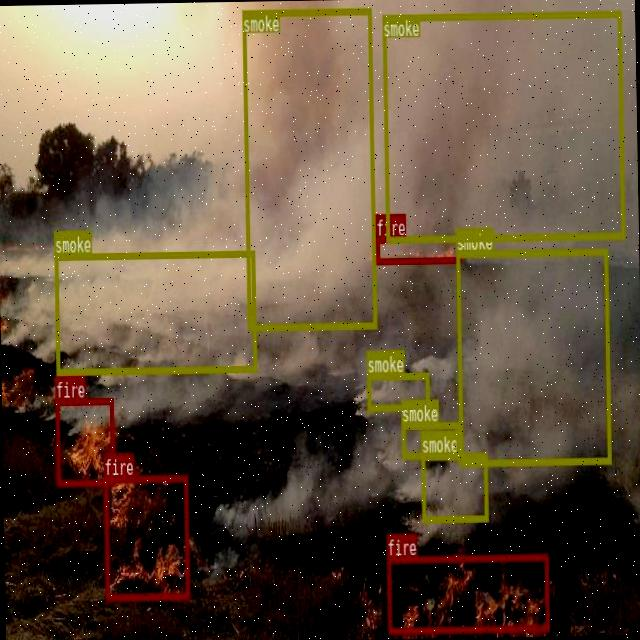fire: (386, 552, 548, 634), (103, 474, 189, 600), (54, 397, 114, 484), (375, 235, 460, 262)
smoke: (382, 10, 624, 242), (241, 6, 376, 328), (454, 248, 610, 466), (54, 249, 255, 374), (420, 452, 488, 521), (366, 372, 428, 409), (400, 420, 460, 458)
